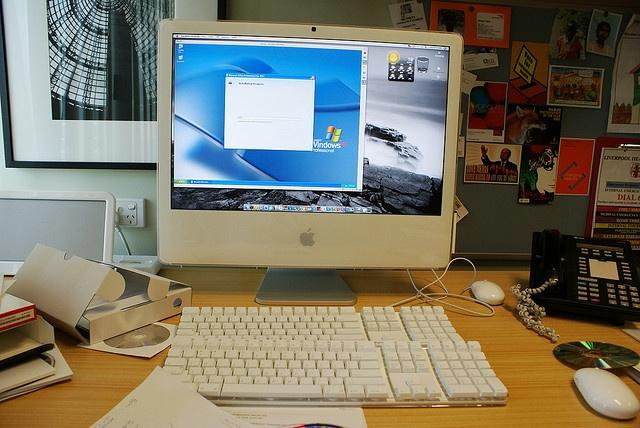AIO PC-Monitor-TV: (154, 18, 462, 271)
